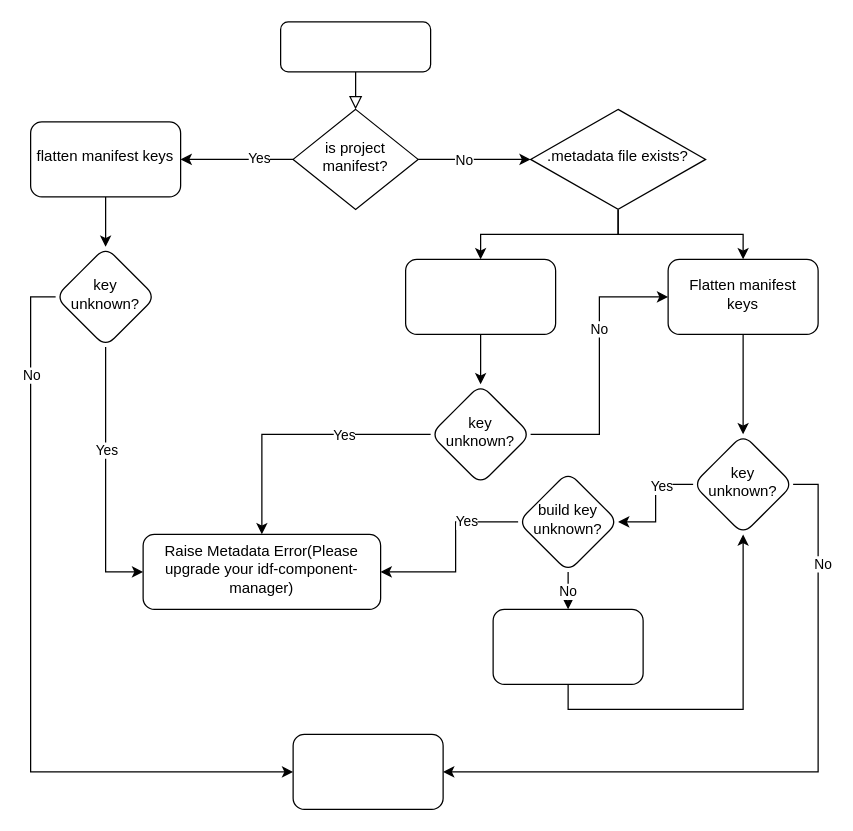
This 853x831 diagram has some shape labels left out. The box of each missing label's shape, as (x1, y1, x2, y2) in pixels:
Drop the info key: (492, 608, 643, 684)
Get `build_keys`, `info`keys` from .metadata file: (404, 258, 556, 334)
idf_component.yml: (279, 21, 431, 72)
Pass: (292, 733, 443, 809)
